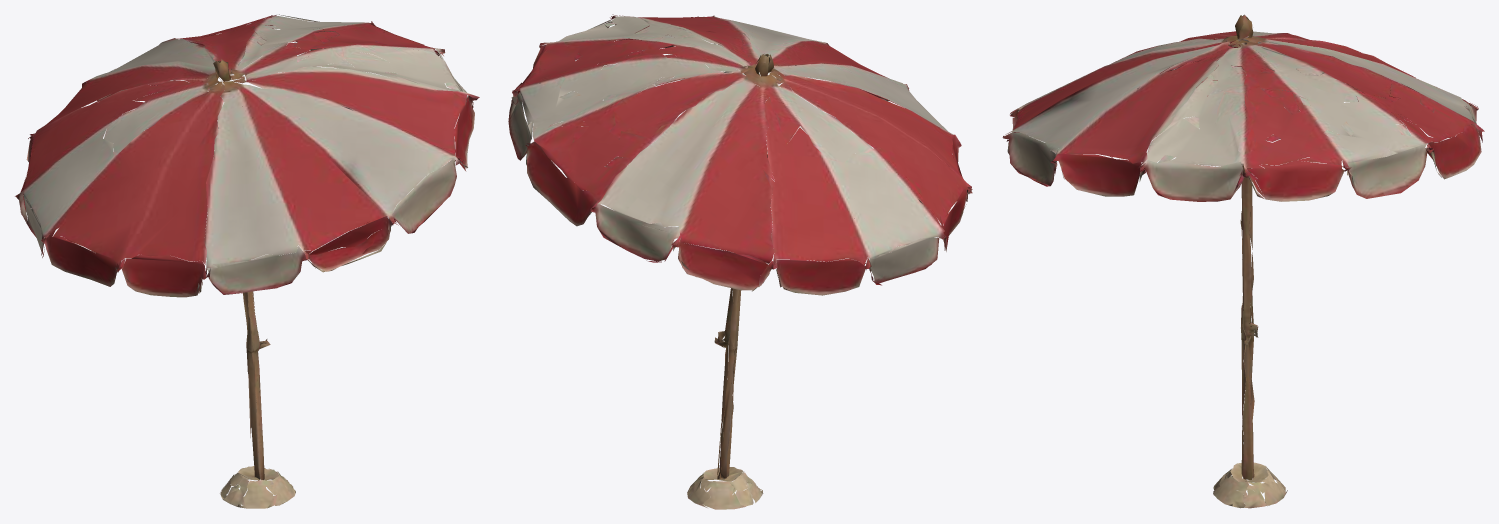
Rendered from kueste_sonnenschirm.glb.
3 renders of one model, left to right at view 1: azimuth 30°, elevation 25°; view 2: azimuth 150°, elevation 25°; view 3: azimuth 270°, elevation 25°, orthographic. The views are drawn at different scales.
Visible parts, largest first — view 1: Prop; view 2: Prop; view 3: Prop.
Part boxes in pixels (x1=…): Prop: x1=15, y1=14, x2=479, y2=508; Prop: x1=508, y1=14, x2=972, y2=509; Prop: x1=1002, y1=14, x2=1484, y2=508.
Size of the model in its own units: 0.9479 by 1 by 0.9574.
Materials: 1 (1 with a texture image).
